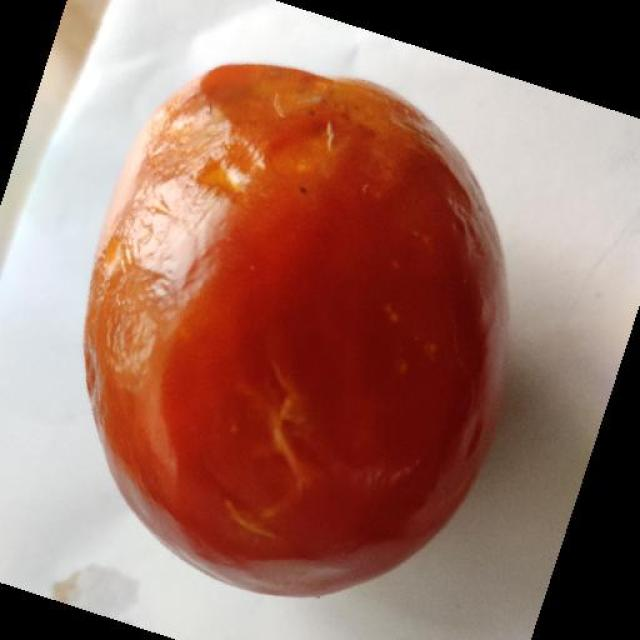Stale_tomato: (97, 76, 516, 580)
